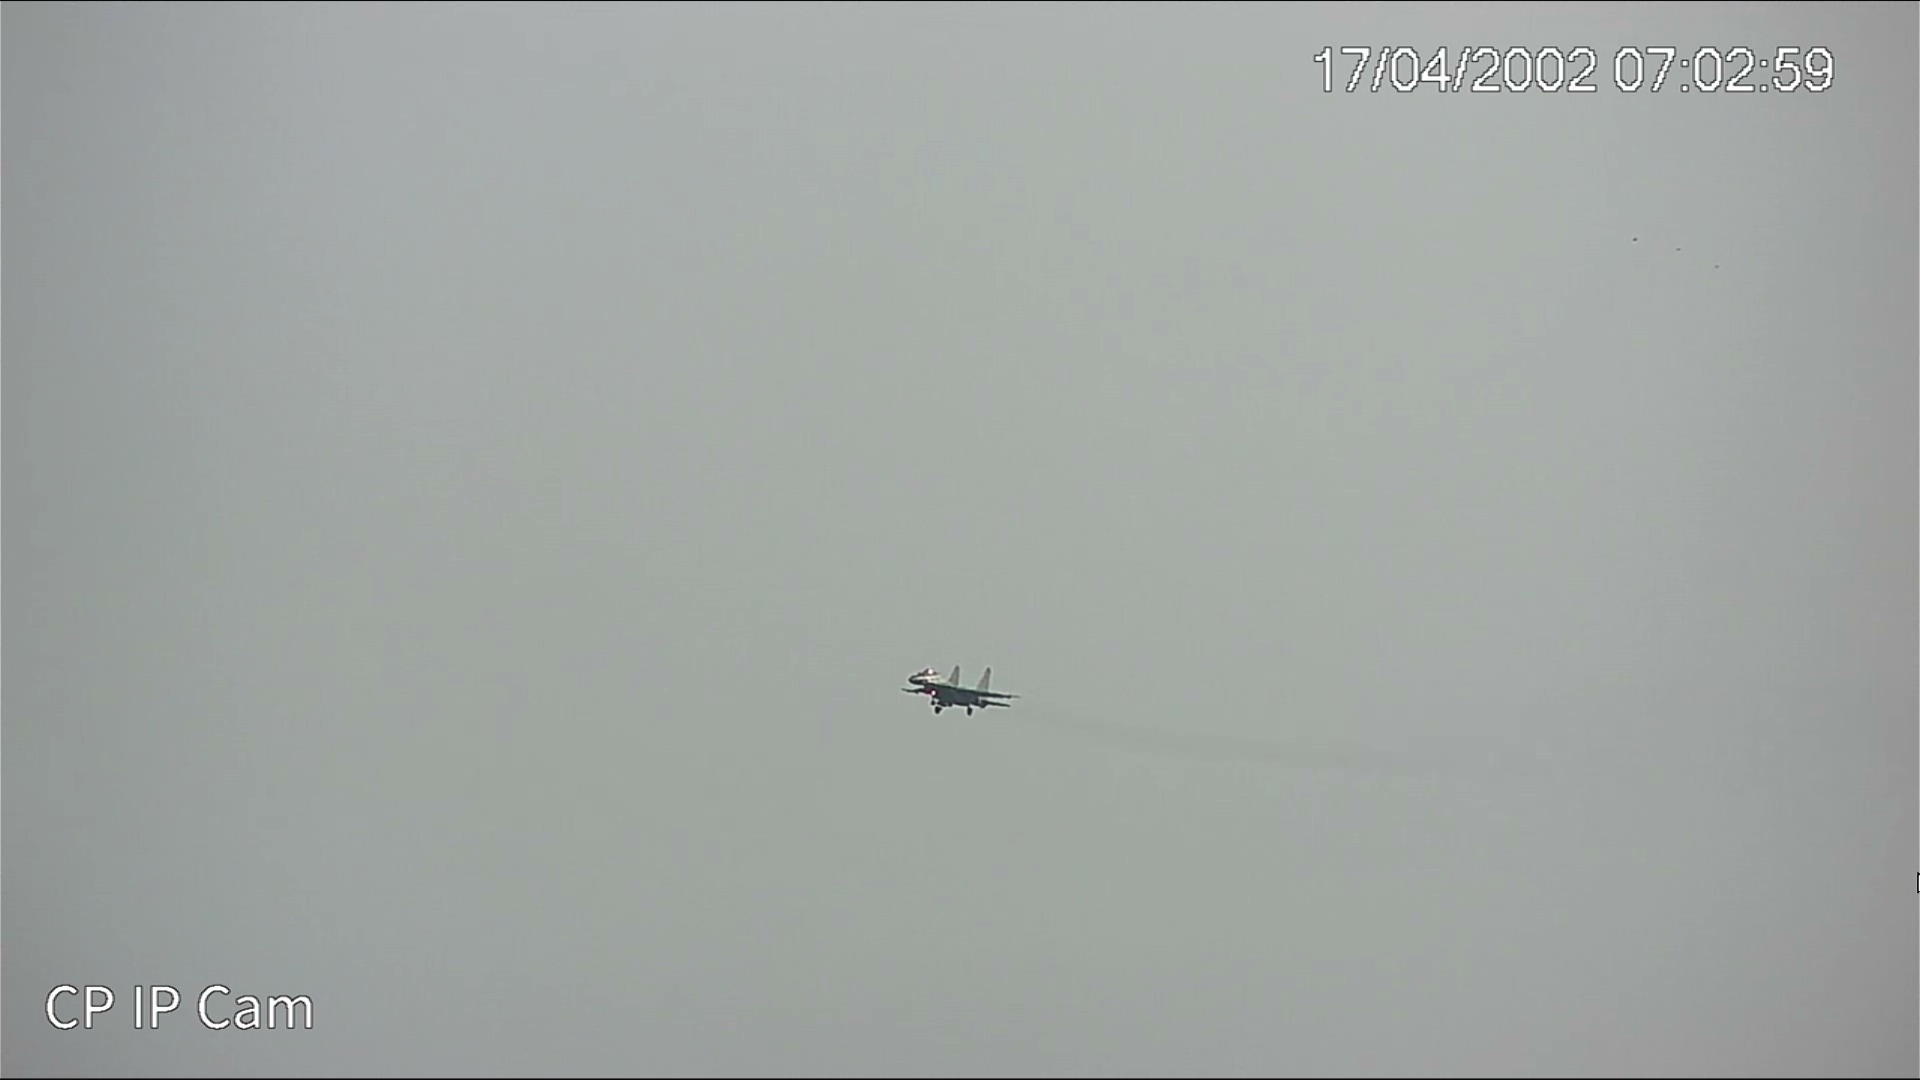SU_30: (906, 663, 1015, 720)
